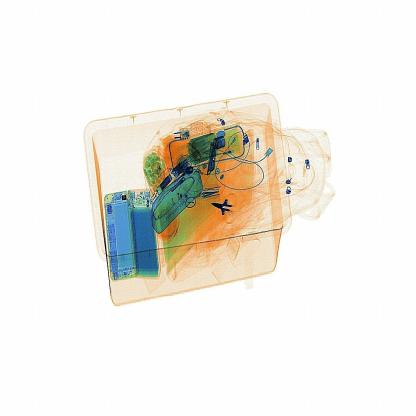gun: (205, 186, 246, 229)
